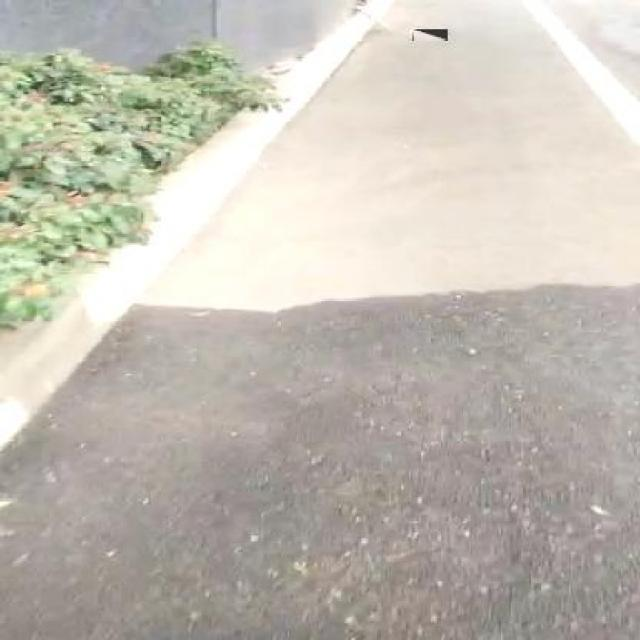Manhole: (412, 29, 448, 40)
